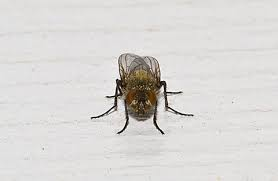insect: (92, 51, 189, 138)
